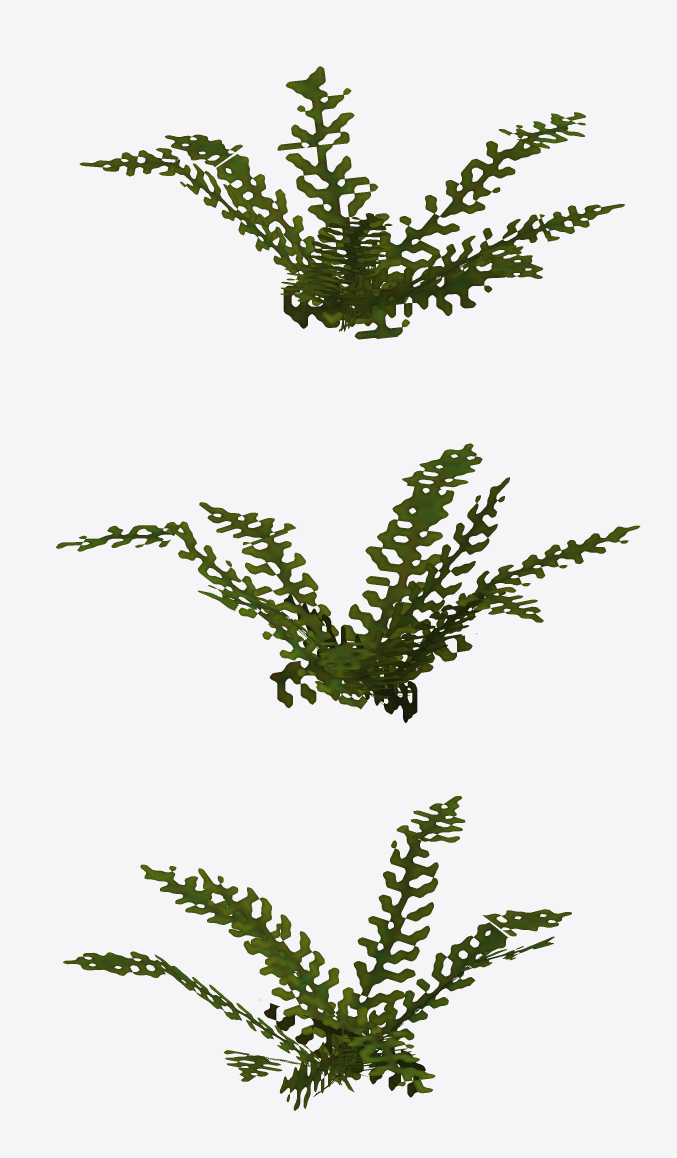
The model's file is fern_4.obj.
The picture shows the model from 3 angles, top to bottom: view 1: azimuth 30°, elevation 25°; view 2: azimuth 150°, elevation 25°; view 3: azimuth 270°, elevation 25°; orthographic projection. The views are drawn at different scales.
Visible parts, largest first — view 1: cube; view 2: cube; view 3: cube.
Boxes of the visible parts, <box> form: cube: <box>79,66,624,339</box>; cube: <box>56,443,640,722</box>; cube: <box>63,796,571,1110</box>.
Bounding box in the file's own units: 2.59 × 0.8939 × 2.49.
